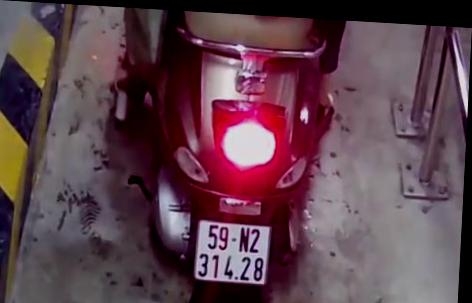License_Plate: (186, 210, 276, 293)
